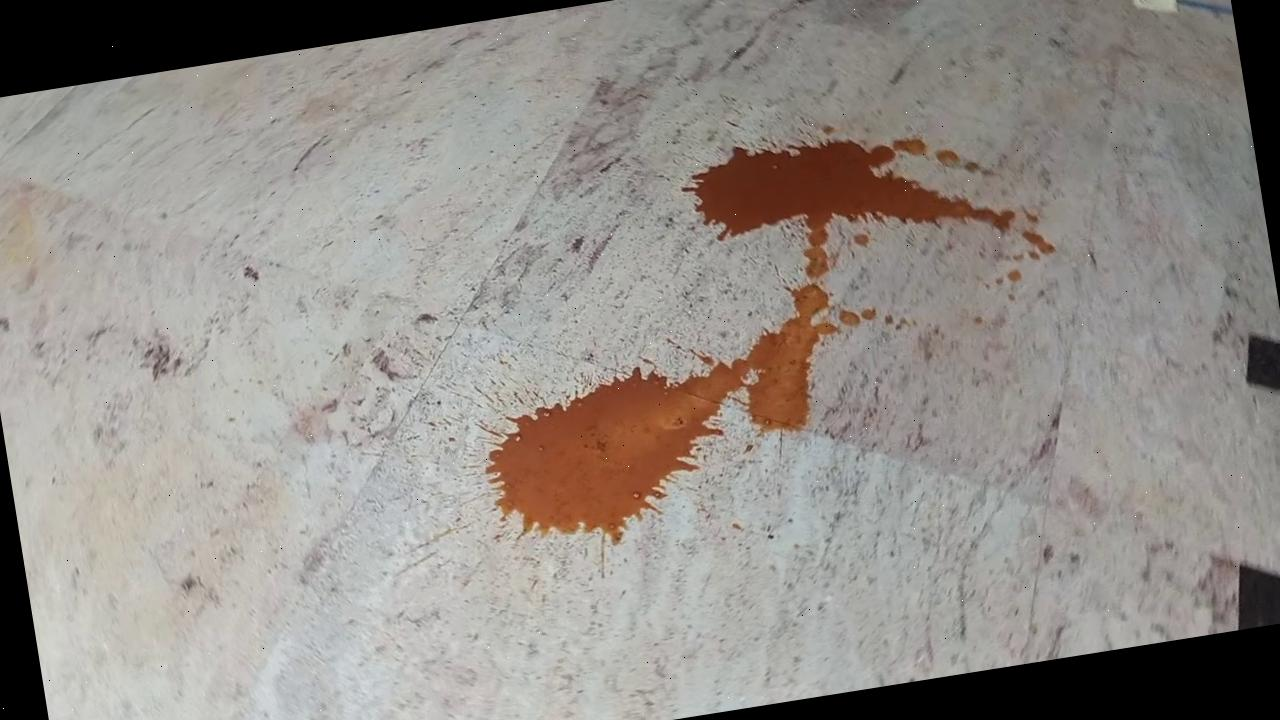dirty_floor: (444, 94, 1090, 560)
